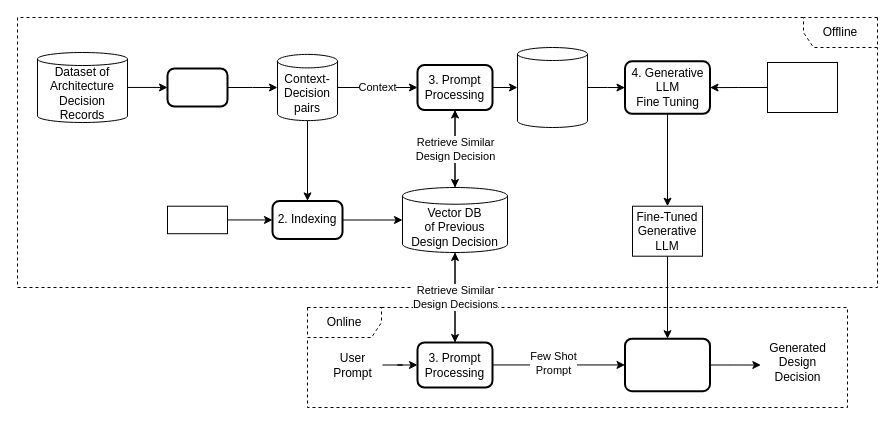
This 895x425 diagram has some shape labels left out. The centre of each missing label's shape, as x and y in pixels:
"1. Data Cleaning" belongs at point (197, 87).
"5. Inference Handler" belongs at point (667, 364).
"Encoder LLM" belongs at point (197, 219).
"Foundation LLM" belongs at point (802, 87).
"Training Data with Few shot prompt" belongs at point (552, 87).
